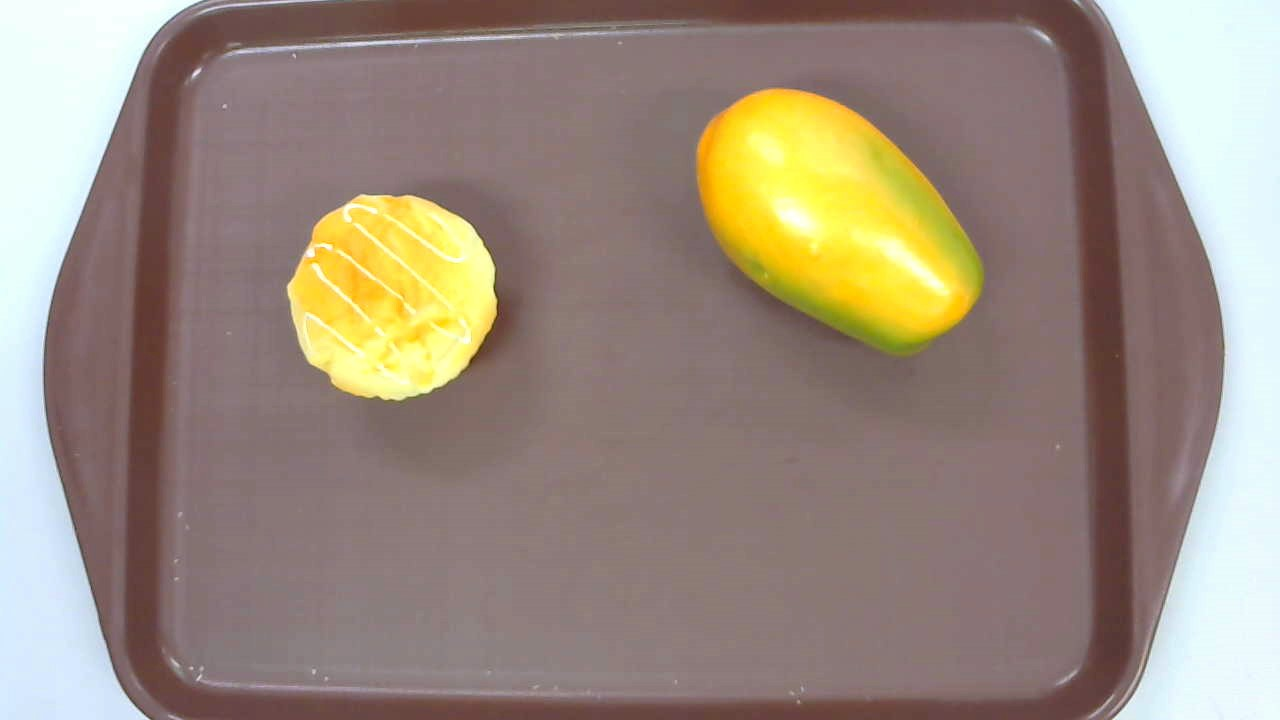cupcake: (285, 193, 498, 403)
papya: (696, 88, 984, 359)
